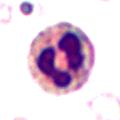eosi: (24, 20, 97, 96)
